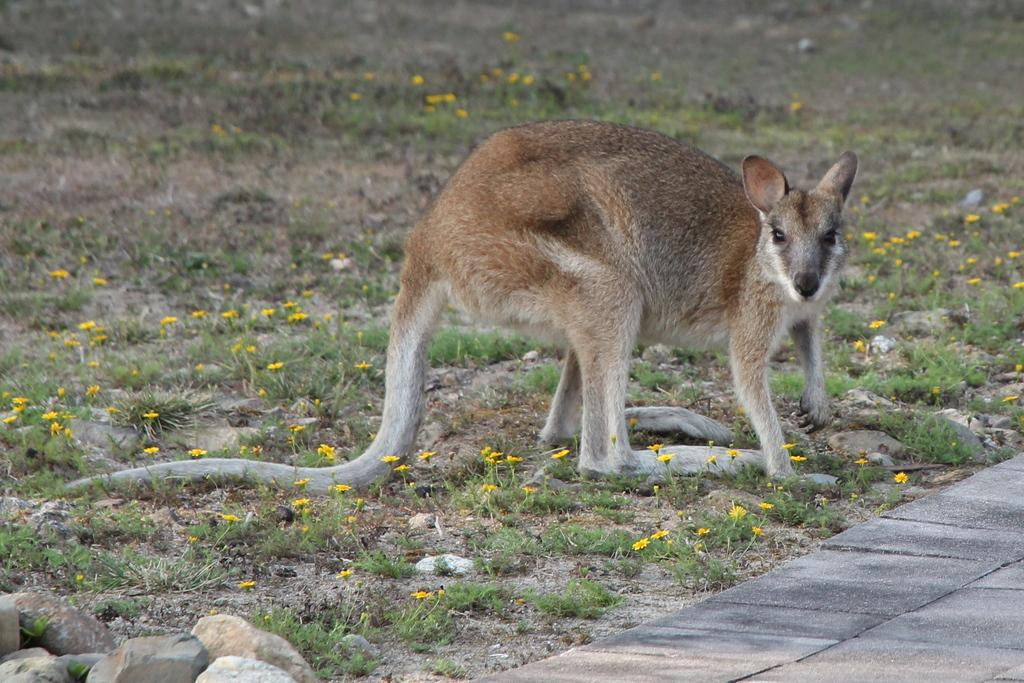kangaroo: (56, 119, 860, 494)
